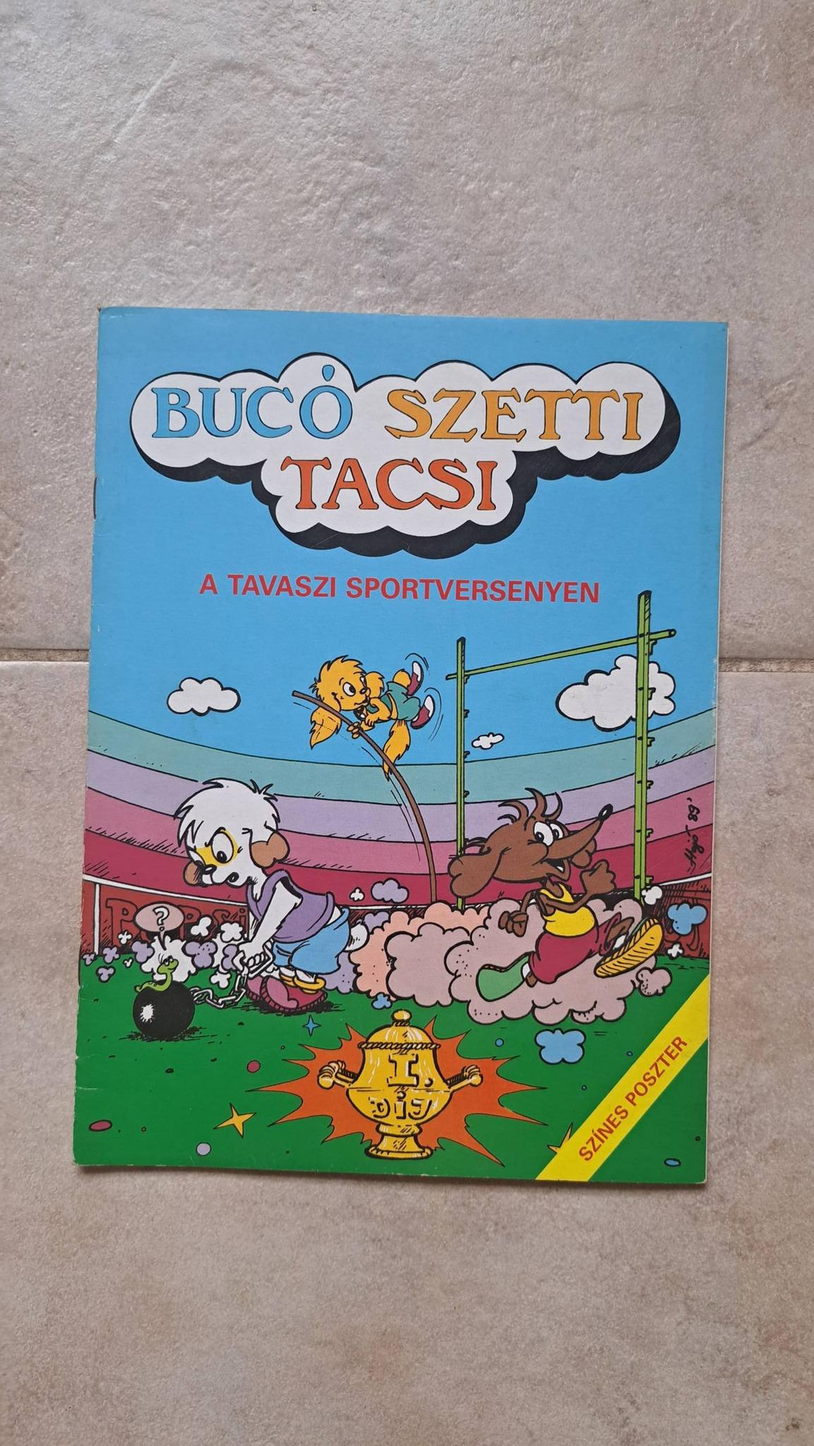comic: (74, 308, 725, 1183)
